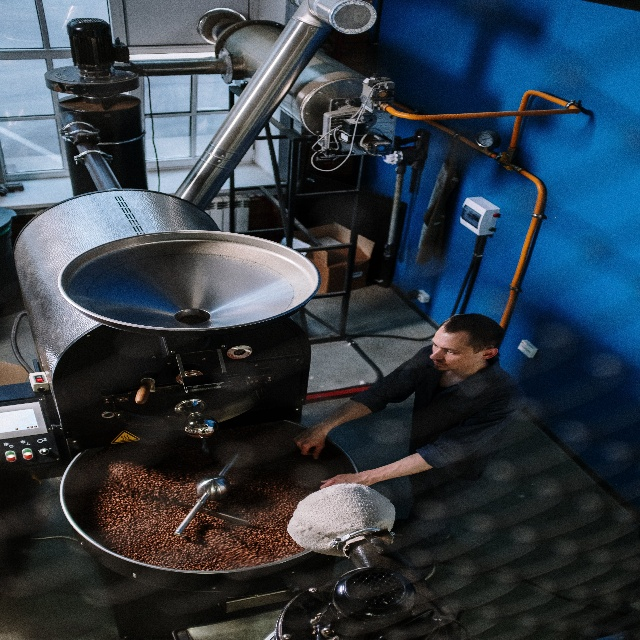Sin_guantes: (318, 465, 370, 491), (294, 420, 329, 456)
